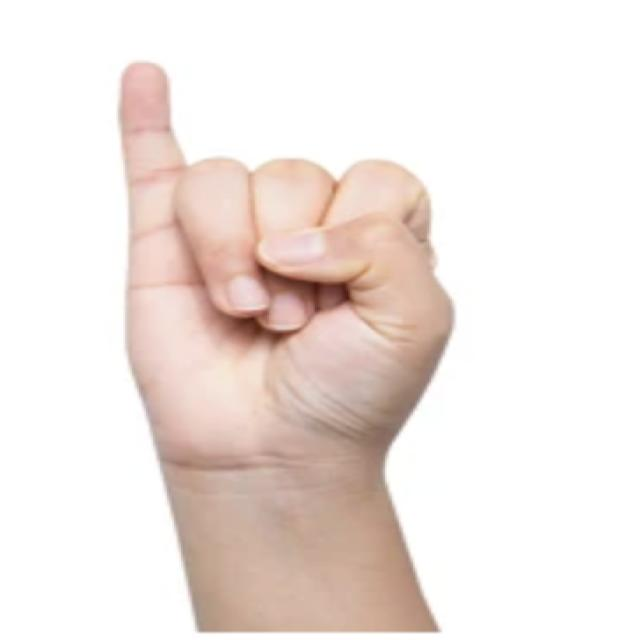pinky: (113, 52, 198, 256)
